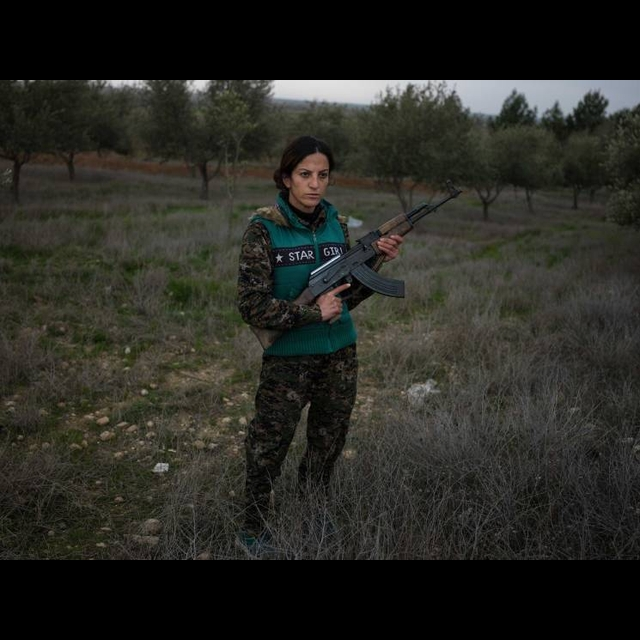AK47: (283, 203, 429, 324)
